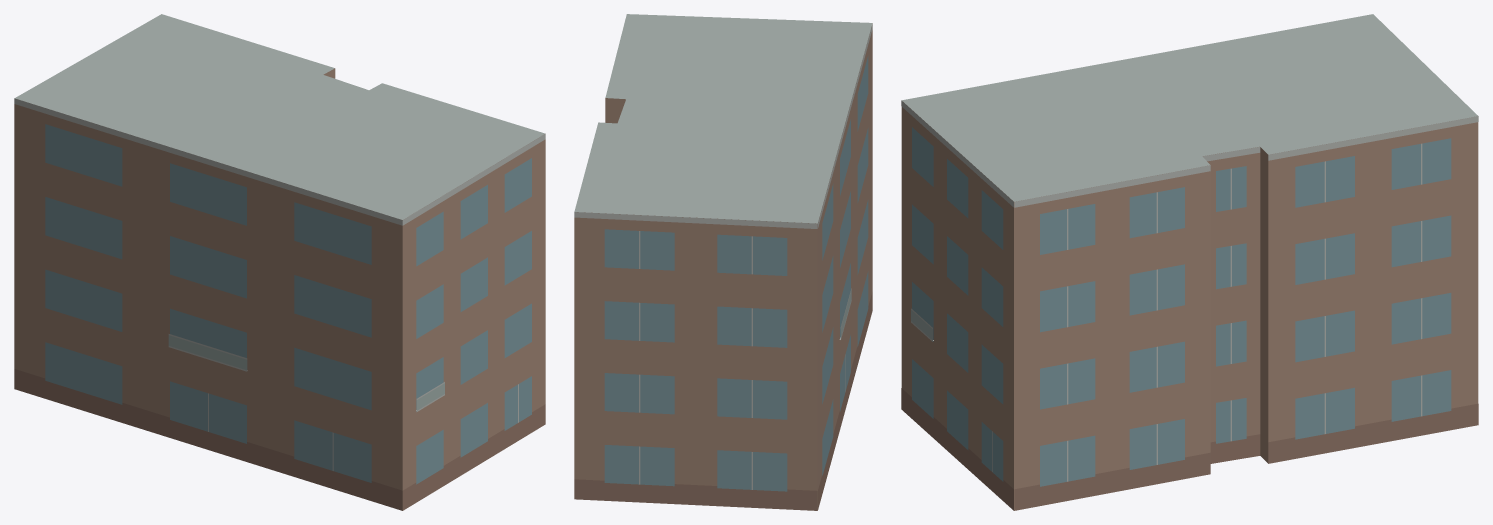
File: survey-upis-32957417.glb
The picture shows the model from 3 angles, left to right: view 1: azimuth 30°, elevation 25°; view 2: azimuth 150°, elevation 25°; view 3: azimuth 270°, elevation 25°; orthographic projection. The views are drawn at different scales.
Visible parts, largest first — view 1: survey-upis-32957417.tmp; view 2: survey-upis-32957417.tmp; view 3: survey-upis-32957417.tmp.
Boxes of the visible parts, box(x1,y1,x2,y2) form: survey-upis-32957417.tmp: box(14, 14, 545, 510); survey-upis-32957417.tmp: box(574, 14, 872, 510); survey-upis-32957417.tmp: box(901, 14, 1478, 510).
Bounding box in the file's own units: 16.3 × 12.5 × 21.16.
